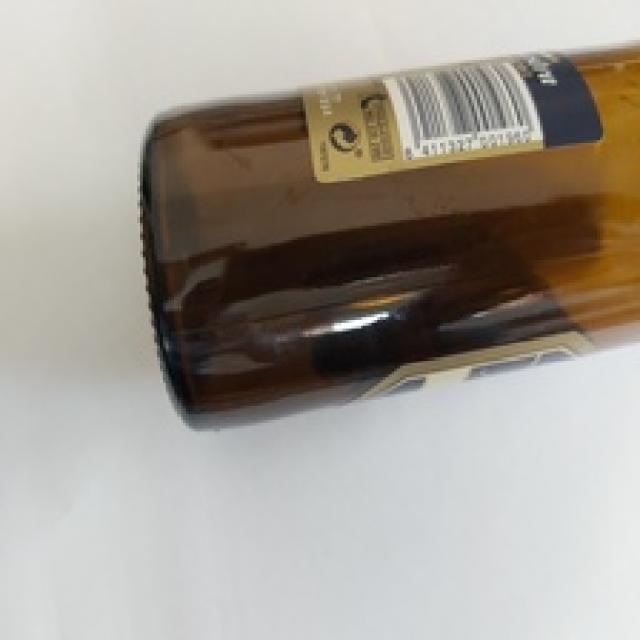Glass: (139, 41, 640, 432)
